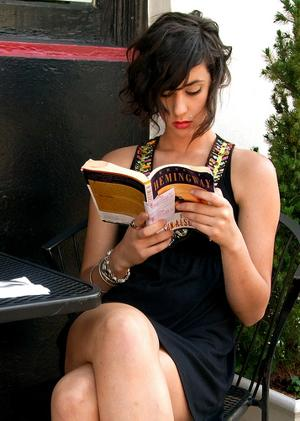person: (50, 9, 283, 421)
